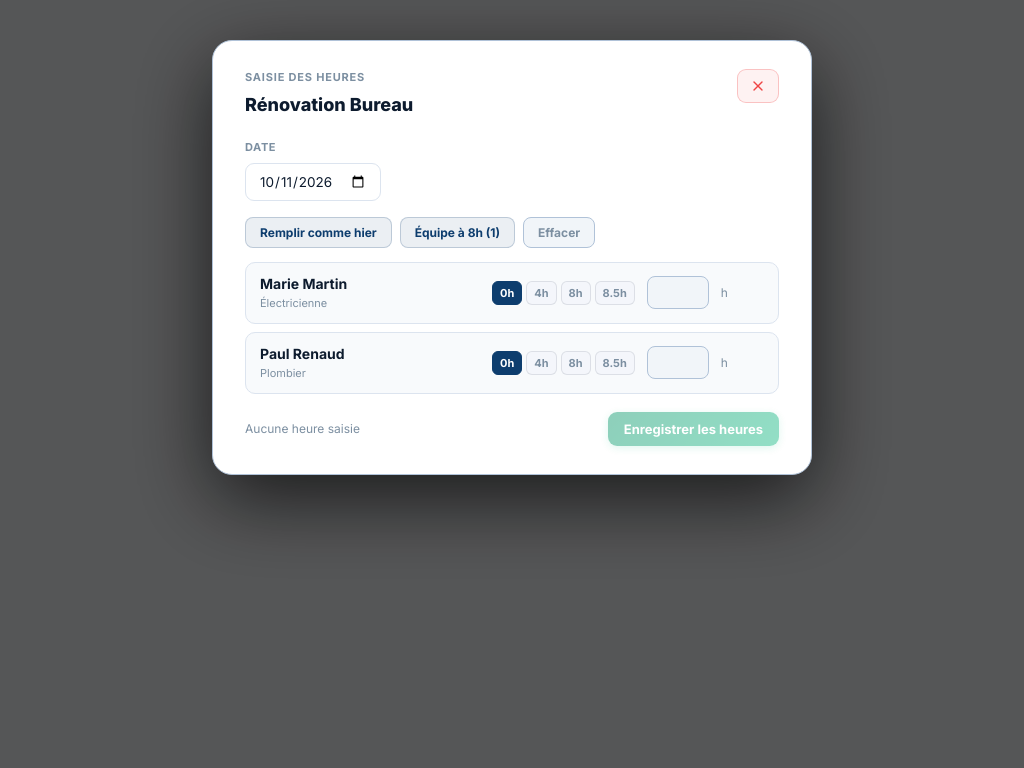
it: ModalSaisieHeures › quick fill 8h → compteur affiche "1 employé · 8h"
# Le premier bouton "8h" correspond au quick fill de Marie Martin
Click the button "8h" in the row of "Marie Martin" at (576, 293), box [560,281,590,305]
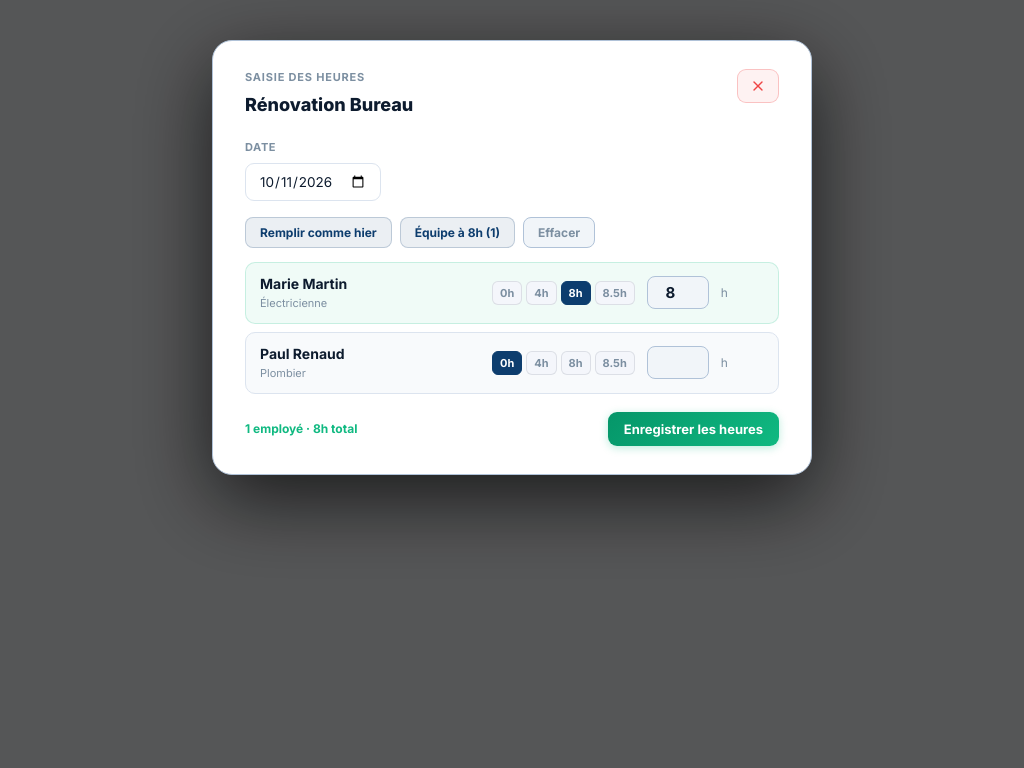
Expected: the text "1 employé · 8h total" is shown, [245,421,357,436]
